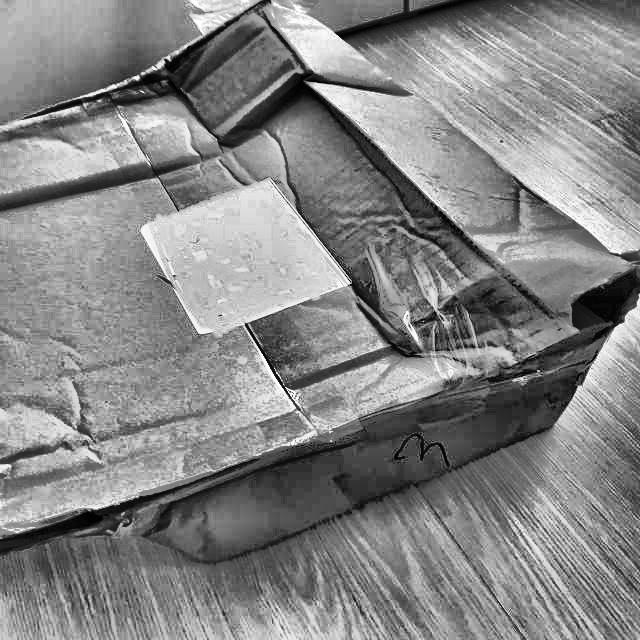box: (1, 0, 639, 580)
hole: (558, 254, 640, 349)
